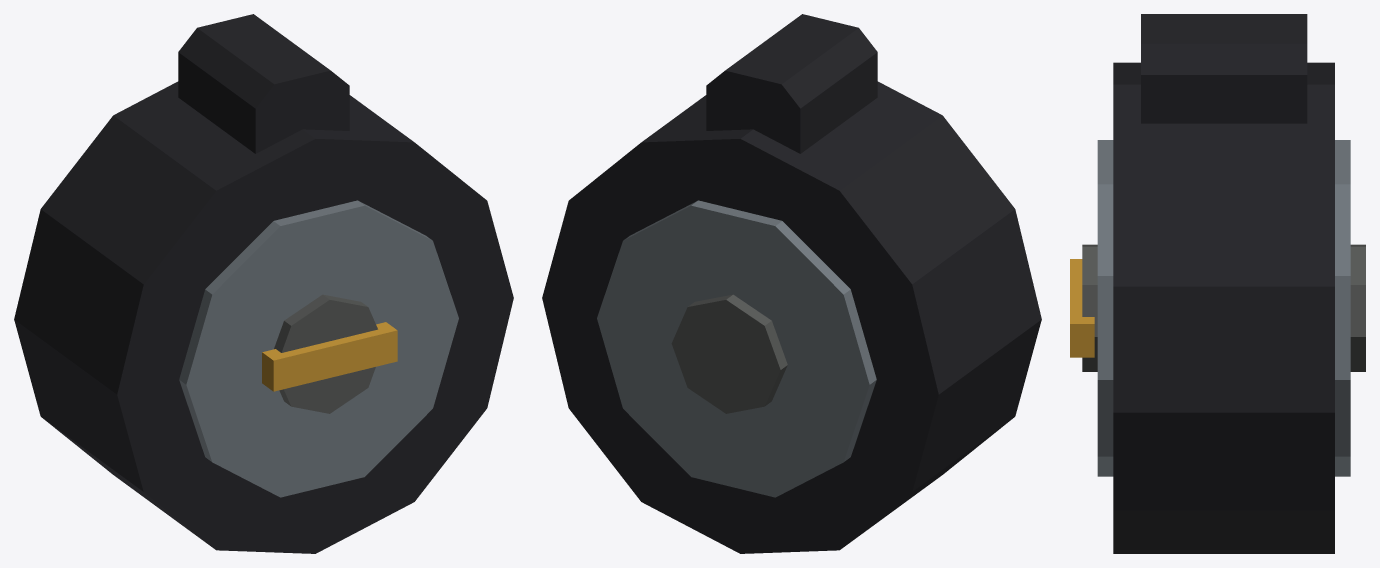
File: drum_mag.glb
3 renders of one model, left to right at view 1: azimuth 30°, elevation 25°; view 2: azimuth 150°, elevation 25°; view 3: azimuth 270°, elevation 25°, orthographic. The views are drawn at different scales.
Visible parts, largest first — view 1: drum_mag; view 2: drum_mag; view 3: drum_mag.
Boxes of the visible parts, x1,y1,x2,y2 form: drum_mag: (14, 14, 513, 553); drum_mag: (542, 14, 1041, 553); drum_mag: (1070, 14, 1365, 553).
Size of the model in its own units: 0.16 by 0.18 by 0.096.
1 material, 1 textured.
